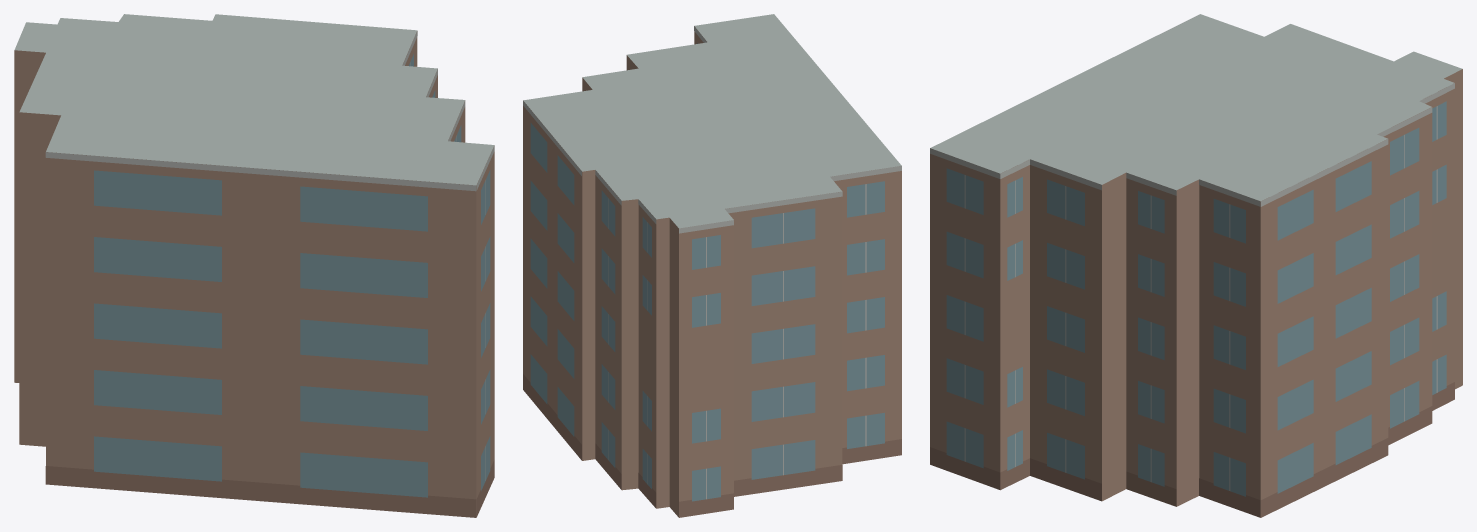
The model's file is survey-upis-32872136.glb.
3 views of the same model, side by side, from view 1: azimuth 30°, elevation 25°; view 2: azimuth 150°, elevation 25°; view 3: azimuth 270°, elevation 25° (orthographic). The views are drawn at different scales.
Visible parts, largest first — view 1: survey-upis-32872136.tmp; view 2: survey-upis-32872136.tmp; view 3: survey-upis-32872136.tmp.
Part boxes in pixels (x1,y1,x2,y2): survey-upis-32872136.tmp: (14,14,494,517); survey-upis-32872136.tmp: (523,14,901,517); survey-upis-32872136.tmp: (930,14,1462,517).
Size of the model in its own units: 17.56 by 13.82 by 21.1.
